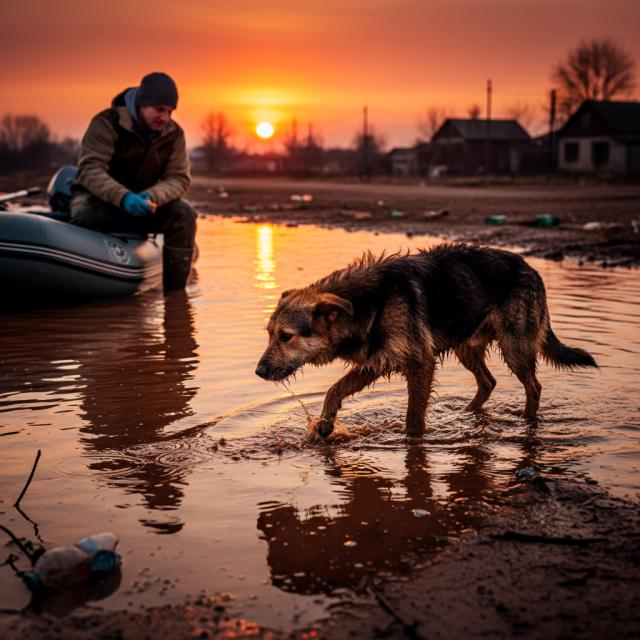civilian: (68, 51, 211, 305)
dog: (247, 240, 609, 438)
